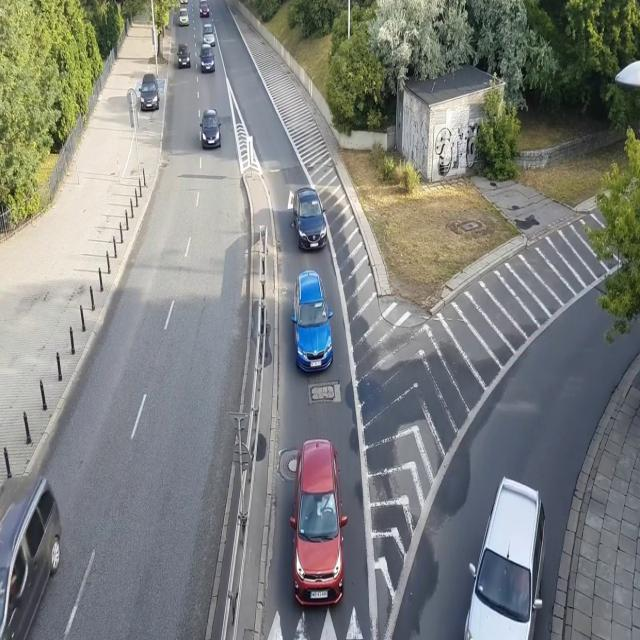car: (462, 474, 546, 640), (289, 435, 348, 608), (290, 269, 334, 377), (292, 186, 328, 252), (199, 105, 222, 148), (138, 71, 160, 110), (198, 44, 216, 73), (176, 41, 192, 70), (201, 23, 216, 47), (179, 8, 189, 27), (198, 0, 209, 17), (178, 0, 188, 4)
van: (0, 472, 63, 640)
